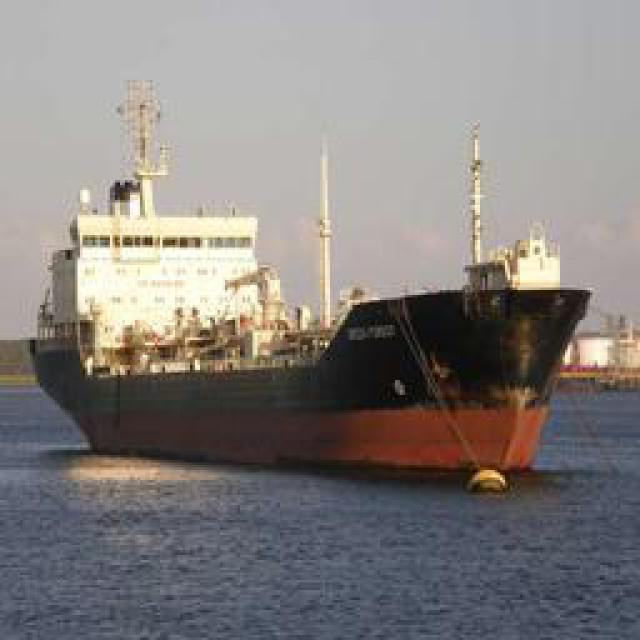Ship: (35, 222, 585, 482)
